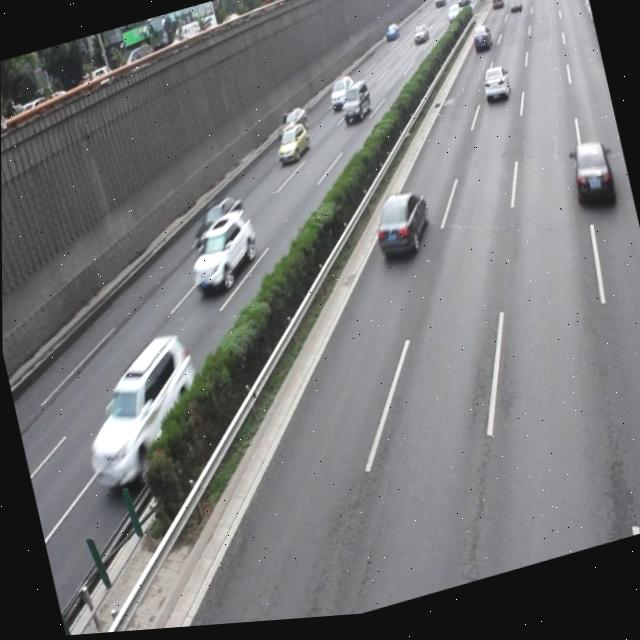car: (65, 326, 214, 501), (180, 209, 263, 301), (366, 190, 435, 270), (563, 143, 615, 221), (187, 194, 249, 255), (270, 123, 313, 170), (478, 70, 510, 111)
